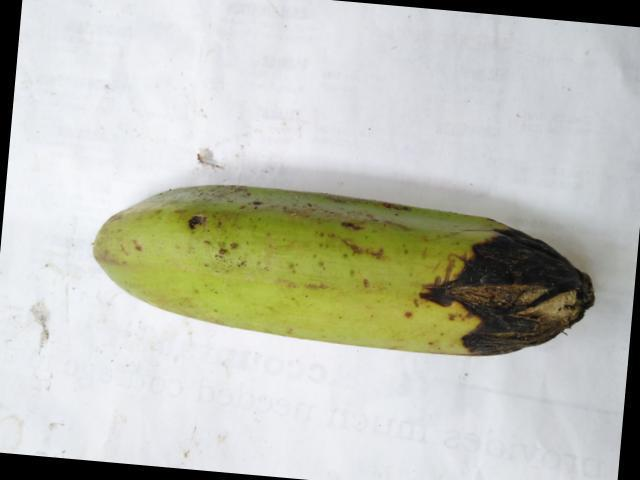rotten: (382, 217, 602, 369)
unripe: (92, 179, 428, 358)
